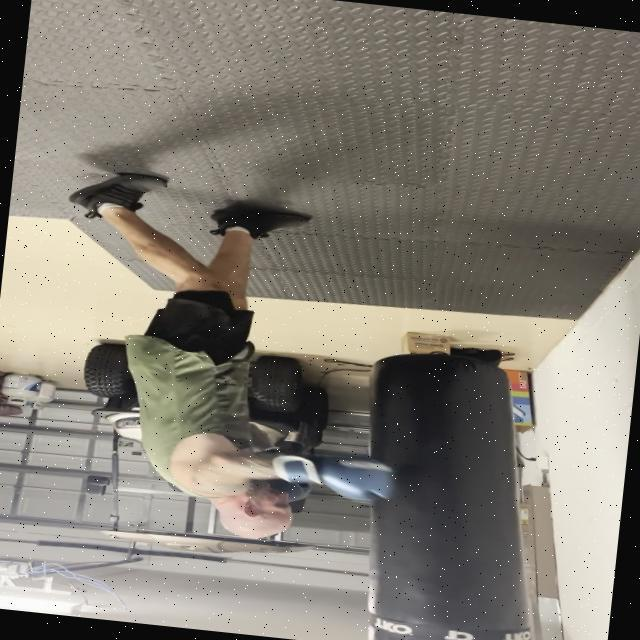bag: (359, 343, 535, 640)
hook: (108, 410, 434, 567)
